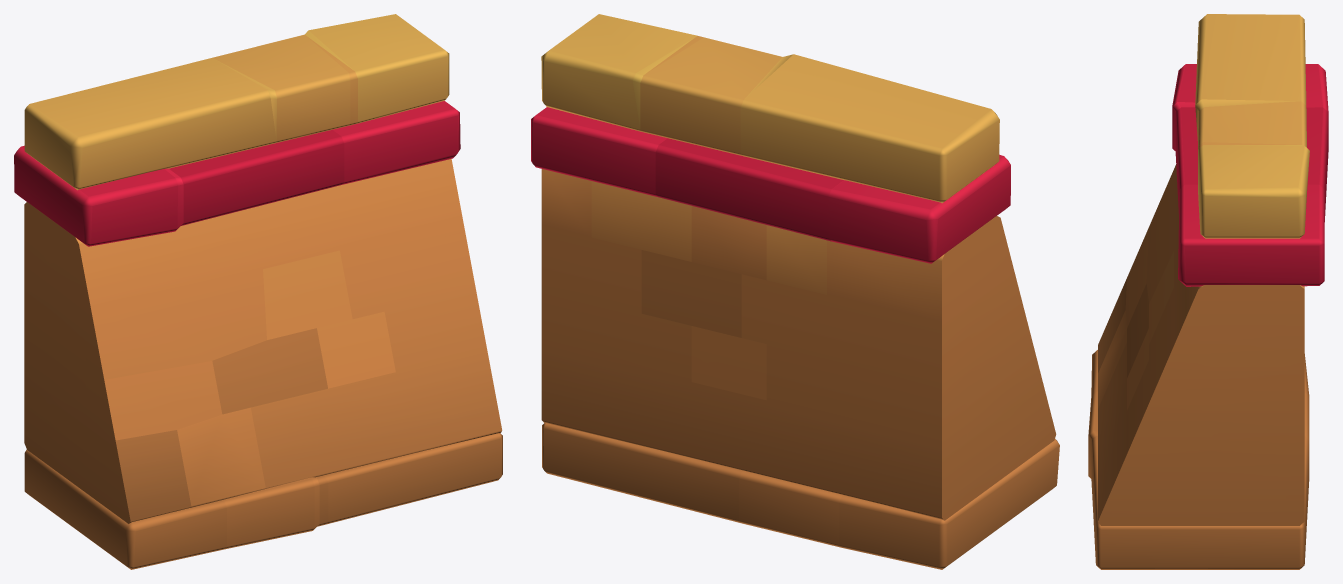
The model's file is wall_floor_slanted_double.fbx.
3 views of the same model, side by side, from view 1: azimuth 30°, elevation 25°; view 2: azimuth 150°, elevation 25°; view 3: azimuth 270°, elevation 25° (orthographic). The views are drawn at different scales.
Visible parts, largest first — view 1: wall_floor_slanted_double; view 2: wall_floor_slanted_double; view 3: wall_floor_slanted_double.
Boxes of the visible parts, x1,y1,x2,y2 form: wall_floor_slanted_double: (14, 14, 502, 569); wall_floor_slanted_double: (531, 14, 1059, 569); wall_floor_slanted_double: (1088, 14, 1328, 569).
Size of the model in its own units: 408 by 409 by 230.
